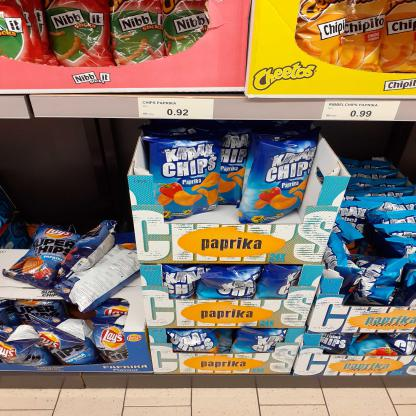prtg: (139, 98, 216, 120), (322, 100, 402, 121)
